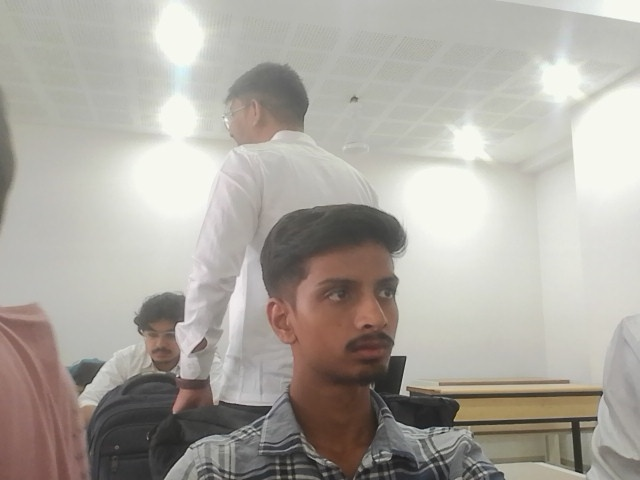fan_on: (340, 94, 369, 154)
light_on: (151, 13, 208, 157), (417, 119, 543, 173), (536, 67, 601, 110)
person: (161, 200, 508, 479), (196, 57, 361, 411), (0, 103, 84, 478), (70, 290, 208, 433), (582, 308, 639, 479)
